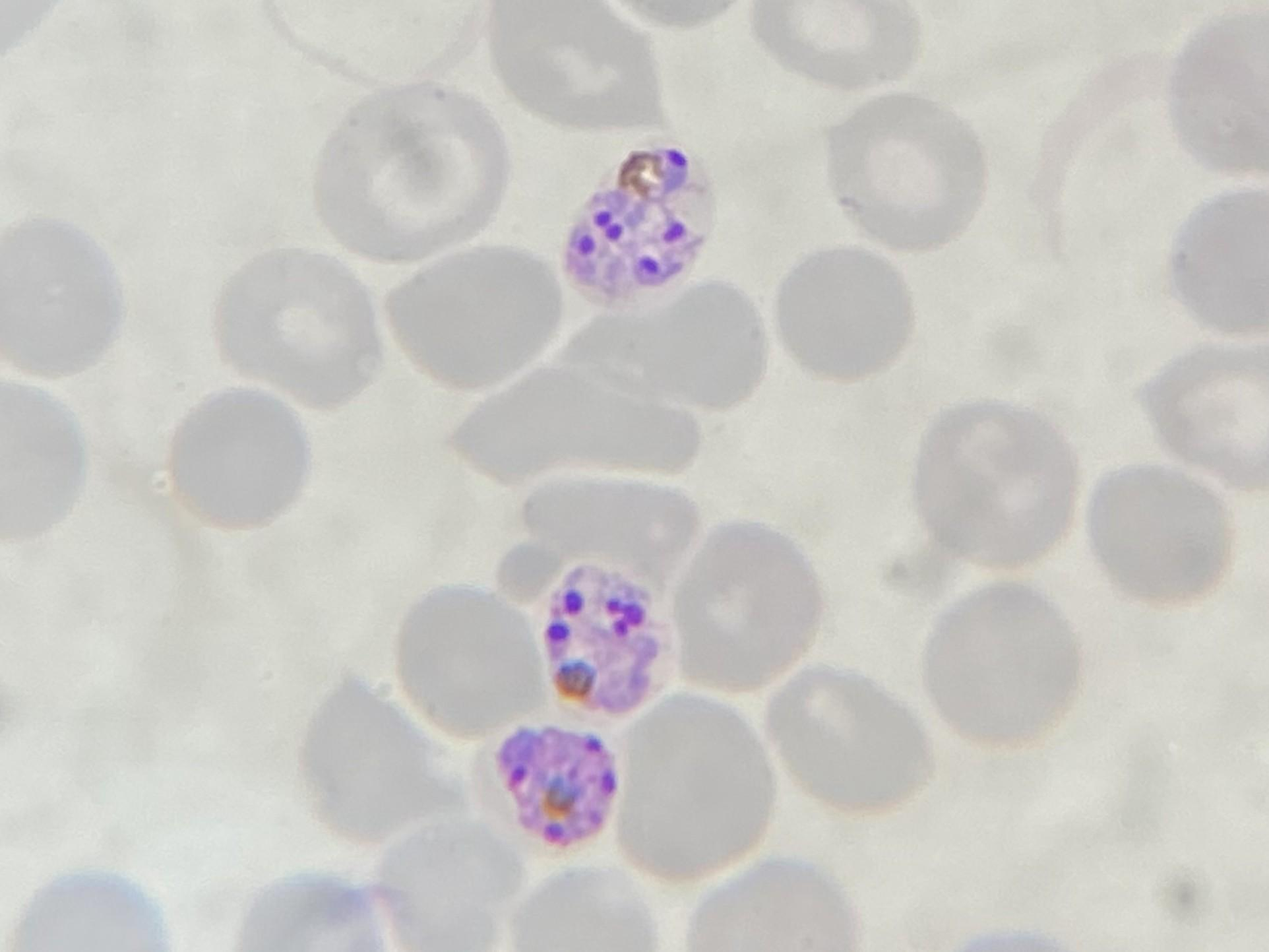Infected: (567, 143, 719, 299), (541, 566, 679, 710), (495, 720, 619, 848)
Uninfected: (310, 82, 511, 266), (600, 693, 772, 880), (453, 370, 709, 490), (299, 671, 461, 855), (477, 0, 675, 145), (215, 245, 389, 409), (917, 399, 1081, 568), (385, 245, 566, 392), (827, 91, 994, 248), (930, 588, 1084, 748), (574, 287, 773, 409), (767, 669, 939, 810), (394, 584, 550, 739), (498, 476, 694, 599), (1086, 465, 1238, 612), (679, 524, 823, 679), (165, 388, 313, 530), (378, 812, 521, 952), (0, 223, 125, 379), (1137, 344, 1269, 489), (772, 249, 911, 376), (745, 0, 918, 90), (686, 863, 858, 952)
